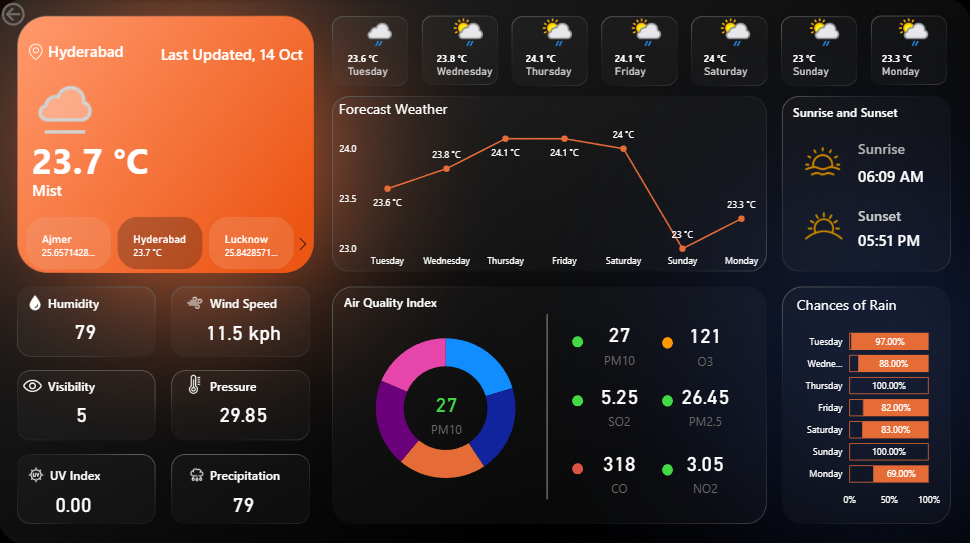

What the dashboard file says about the page in this screenshot:
{"tool":"powerbi","page":{"name":"Page 1","canvas":[1280,720],"ordinal":0},"visuals":[{"type":"advancedSlicerVisual","fields":{"Values":["Locations.location.name"]},"box":[12.4,280.8,404.6,79.8],"z":0},{"type":"image","box":[34.1,53.5,31.8,30.6],"z":1000},{"type":"image","box":[30,383,36,31],"z":2000},{"type":"image","box":[238,610,46,31],"z":3000},{"type":"image","box":[1029.5,260.1,110.1,75.7],"z":4000},{"type":"image","box":[1044.6,185.8,78.5,56.4],"z":5000},{"type":"image","box":[238,489,40,35],"z":6000},{"type":"image","box":[32,610,36,31],"z":7000},{"type":"image","box":[12.1,488.6,66.4,39.3],"z":8000},{"type":"image","box":[238,383,40,31],"z":9000},{"type":"shape","box":[44.4,157,169.7,106.3],"z":10000},{"type":"shape","box":[44,232.6,183.1,34.4],"z":11000},{"type":"shape","box":[166.5,56.4,234,30.3],"z":12000},{"type":"shape","box":[65.9,49.4,152.9,34.7],"z":13000},{"type":"cardVisual","fields":{"Data":["Min(Current.current.condition.icon)"]},"box":[16.5,71.6,125.2,119.7],"z":14000},{"type":"shape","box":[65.7,492.9,114.3,30.7],"z":15000},{"type":"shape","box":[66,383,114,31],"z":16000},{"type":"shape","box":[278,383,114,31],"z":17000},{"type":"shape","box":[278,493,114,31],"z":18000},{"type":"shape","box":[68,610,114,31],"z":19000},{"type":"shape","box":[278,610,114,31],"z":20000},{"type":"card","fields":{"Values":["Sum(Current.current.humidity)"]},"box":[45.7,398.6,137.1,75.7],"z":21000},{"type":"card","fields":{"Values":["_Measures.Wind_Speed"]},"box":[253.5,399.2,137.8,76],"z":22000},{"type":"card","fields":{"Values":["Sum(Current.current.vis_km)"]},"box":[41.2,506.9,137.8,76],"z":23000},{"type":"card","fields":{"Values":["Sum(Current.current.pressure_in)"]},"box":[253.5,506.9,137.8,76],"z":24000},{"type":"card","fields":{"Values":["Sum(Current.current.humidity)"]},"box":[253.5,625.7,137.8,76],"z":25000},{"type":"actionButton","box":[0,0,100,40],"z":26000},{"type":"card","fields":{"Values":["Sum(Current.current.uv)"]},"box":[30.1,625.7,137.8,76],"z":27000},{"type":"advancedSlicerVisual","fields":{"Values":["Forcast_Day.Day_Name"]},"box":[441.8,13.8,821.7,108.7],"z":28000},{"type":"lineChart","title":"Forecast Weather","fields":{"Y":["Sum(Forcast_Day.forecast.forecastday.day.avgtemp_c)"],"Category":["Forcast_Day.Day_Name"]},"box":[442.4,131.1,570.1,230.8],"z":29000},{"type":"shape","box":[1044.6,132.1,170.7,30.3],"z":30000},{"type":"shape","box":[1130,214.7,99.1,35.8],"z":31000},{"type":"shape","box":[1130,298.7,99.1,35.8],"z":32000},{"type":"shape","box":[1130,178.9,99.1,35.8],"z":33000},{"type":"shape","box":[1130,267,99.1,35.8],"z":34000},{"type":"hundredPercentStackedBarChart","title":"Chances of Rain","fields":{"Y":["Current.Left_value_Rain","Sum(Forcast_Day.forecast.forecastday.day.daily_chance_of_rain)"],"Category":["Forcast_Day.Day_Name"]},"box":[1044.6,389.5,198.2,287.7],"z":35000},{"type":"shape","box":[454.4,382.8,171,30.7],"z":36000},{"type":"card","fields":{"Values":["Sum(Current.current.air_quality.pm10)"]},"box":[765.7,413.5,100.8,74.5],"z":37000},{"type":"card","fields":{"Values":["Sum(Current.current.air_quality.o3)"]},"box":[879.6,415,100.8,74.5],"z":38000},{"type":"card","fields":{"Values":["Sum(Current.current.air_quality.so2)"]},"box":[765.8,493.4,100.9,75.3],"z":39000},{"type":"card","fields":{"Values":["Sum(Current.current.air_quality.pm2_5)"]},"box":[879.5,493.4,100.9,75.3],"z":40000},{"type":"card","fields":{"Values":["Sum(Current.current.air_quality.co)"]},"box":[765.8,581.5,100.9,75.3],"z":41000},{"type":"card","fields":{"Values":["Sum(Current.current.air_quality.no2)"]},"box":[879.5,581.5,100.9,75.3],"z":42000},{"type":"shape","box":[753.5,442.9,14.7,15.3],"z":43000},{"type":"shape","box":[753.5,520.6,14.7,15.3],"z":44000},{"type":"shape","box":[753.5,610,14.7,15.3],"z":45000},{"type":"shape","box":[872,444,14.5,15.5],"z":46000},{"type":"shape","box":[872,520,14.5,15.5],"z":47000},{"type":"shape","box":[872,611,14.5,15.5],"z":48000},{"type":"shape","box":[640,414.3,163.3,243.5],"z":49000},{"type":"card","fields":{"Values":["Sum(Current.current.air_quality.pm10)"]},"box":[539,506.4,101,74.2],"z":50000},{"type":"donutChart","fields":{"Category":["Current.current.air_quality.pm10"],"Y":["_Measures.Left_value_PM10"]},"box":[454.2,418.4,267,239.5],"z":51000}]}

Visuals, with their boxes in screenshot pixels (x1, y1, x2, y2), scaled from the page's 1280x720 canvas onto the 970x543 screenshot:
advancedSlicerVisual - Locations.location.name: box(9, 212, 316, 272)
image: box(26, 40, 50, 63)
image: box(23, 289, 50, 312)
image: box(180, 460, 215, 483)
image: box(780, 196, 864, 253)
image: box(792, 140, 851, 183)
image: box(180, 369, 211, 395)
image: box(24, 460, 52, 483)
image: box(9, 368, 59, 398)
image: box(180, 289, 211, 312)
shape: box(34, 118, 162, 199)
shape: box(33, 175, 172, 201)
shape: box(126, 43, 304, 65)
shape: box(50, 37, 166, 63)
cardVisual - Min(Current.current.condition.icon): box(13, 54, 107, 144)
shape: box(50, 372, 136, 395)
shape: box(50, 289, 136, 312)
shape: box(211, 289, 297, 312)
shape: box(211, 372, 297, 395)
shape: box(52, 460, 138, 483)
shape: box(211, 460, 297, 483)
card - Sum(Current.current.humidity): box(35, 301, 139, 358)
card - _Measures.Wind_Speed: box(192, 301, 297, 358)
card - Sum(Current.current.vis_km): box(31, 382, 136, 440)
card - Sum(Current.current.pressure_in): box(192, 382, 297, 440)
card - Sum(Current.current.humidity): box(192, 472, 297, 529)
actionButton: box(0, 0, 76, 30)
card - Sum(Current.current.uv): box(23, 472, 127, 529)
advancedSlicerVisual - Forcast_Day.Day_Name: box(335, 10, 957, 92)
"Forecast Weather" lineChart: box(335, 99, 767, 273)
shape: box(792, 100, 921, 122)
shape: box(856, 162, 931, 189)
shape: box(856, 225, 931, 252)
shape: box(856, 135, 931, 162)
shape: box(856, 201, 931, 228)
"Chances of Rain" hundredPercentStackedBarChart: box(792, 294, 942, 511)
shape: box(344, 289, 474, 312)
card - Sum(Current.current.air_quality.pm10): box(580, 312, 657, 368)
card - Sum(Current.current.air_quality.o3): box(667, 313, 743, 369)
card - Sum(Current.current.air_quality.so2): box(580, 372, 657, 429)
card - Sum(Current.current.air_quality.pm2_5): box(666, 372, 743, 429)
card - Sum(Current.current.air_quality.co): box(580, 439, 657, 495)
card - Sum(Current.current.air_quality.no2): box(666, 439, 743, 495)
shape: box(571, 334, 582, 346)
shape: box(571, 393, 582, 404)
shape: box(571, 460, 582, 472)
shape: box(661, 335, 672, 347)
shape: box(661, 392, 672, 404)
shape: box(661, 461, 672, 472)
shape: box(485, 312, 609, 496)
card - Sum(Current.current.air_quality.pm10): box(408, 382, 485, 438)
donutChart - Current.current.air_quality.pm10 x _Measures.Left_value_PM10: box(344, 316, 547, 496)
